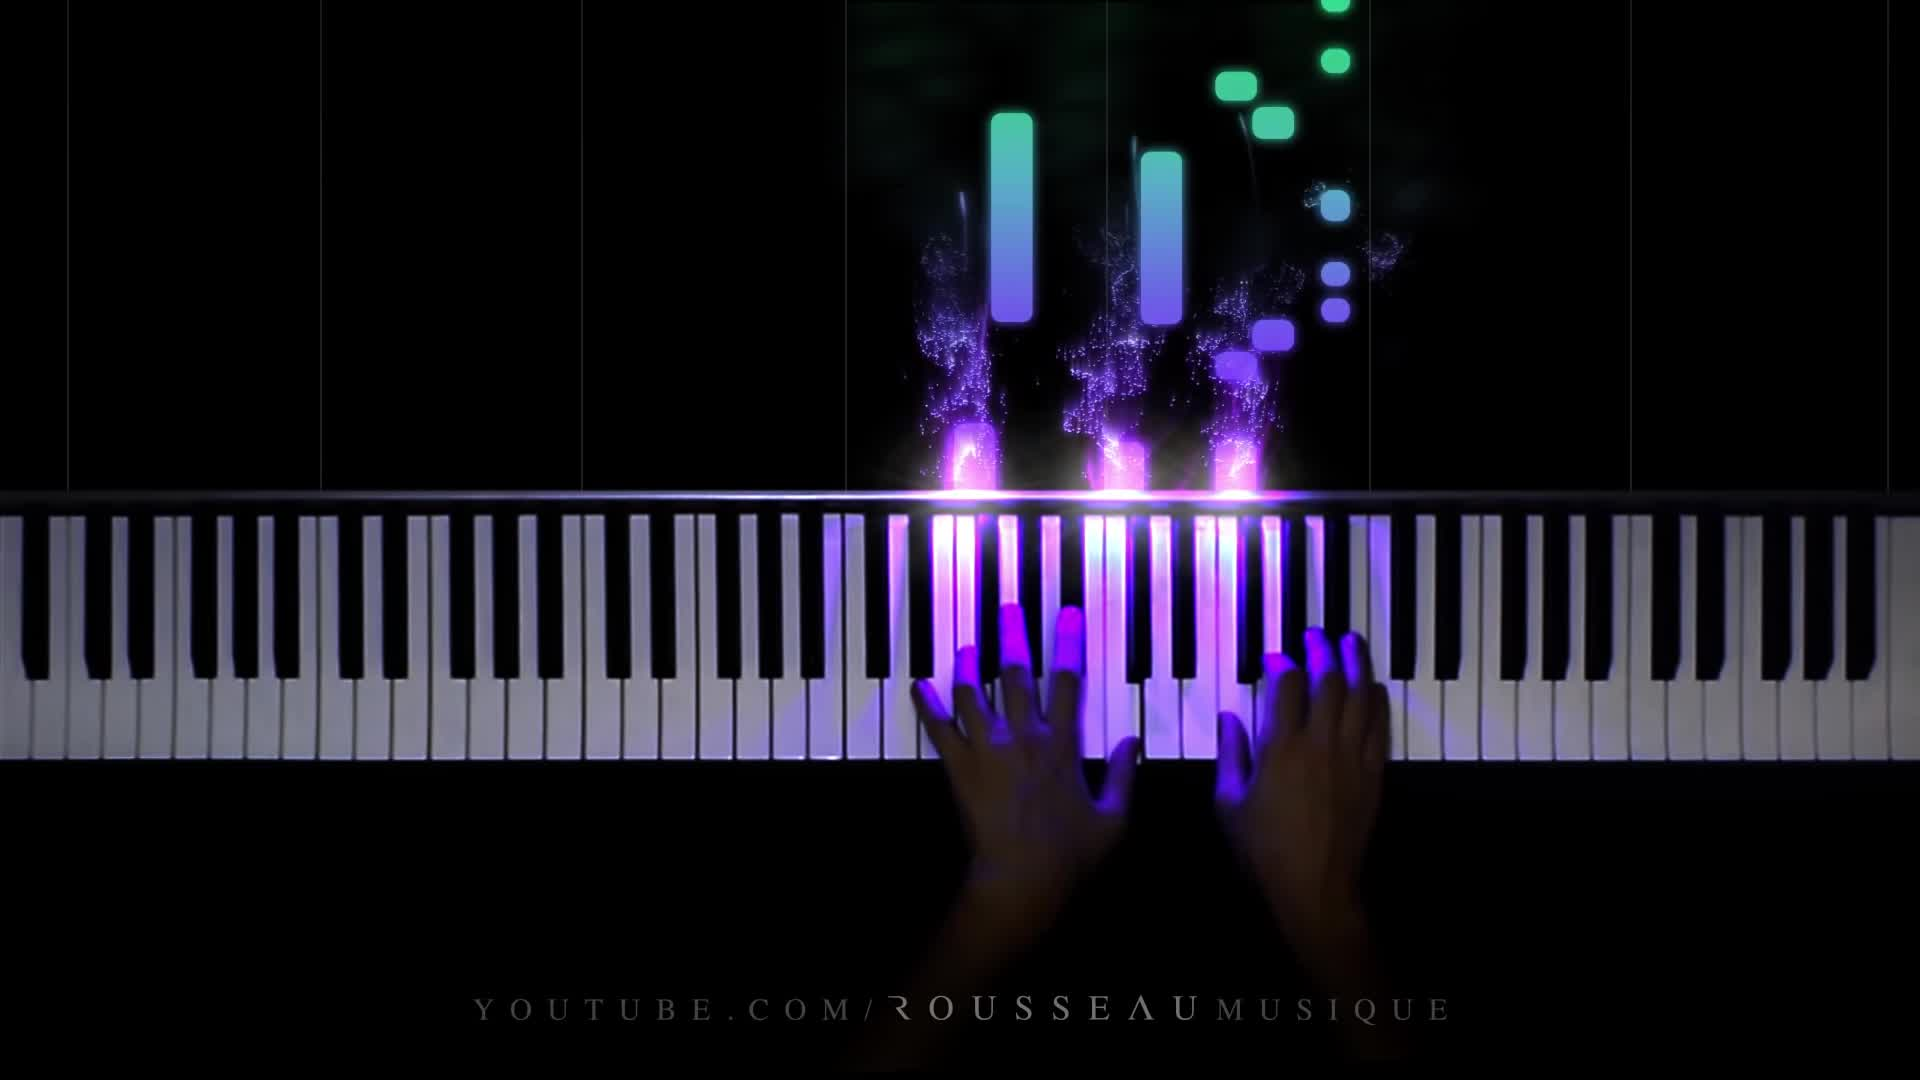left: (907, 597, 1145, 873)
right: (1211, 621, 1396, 910)
